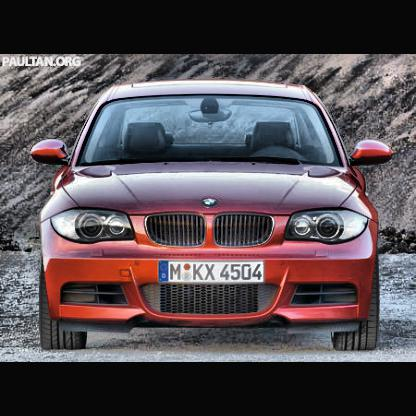BMW 1 Series Coupe 2012: (21, 68, 401, 360)
